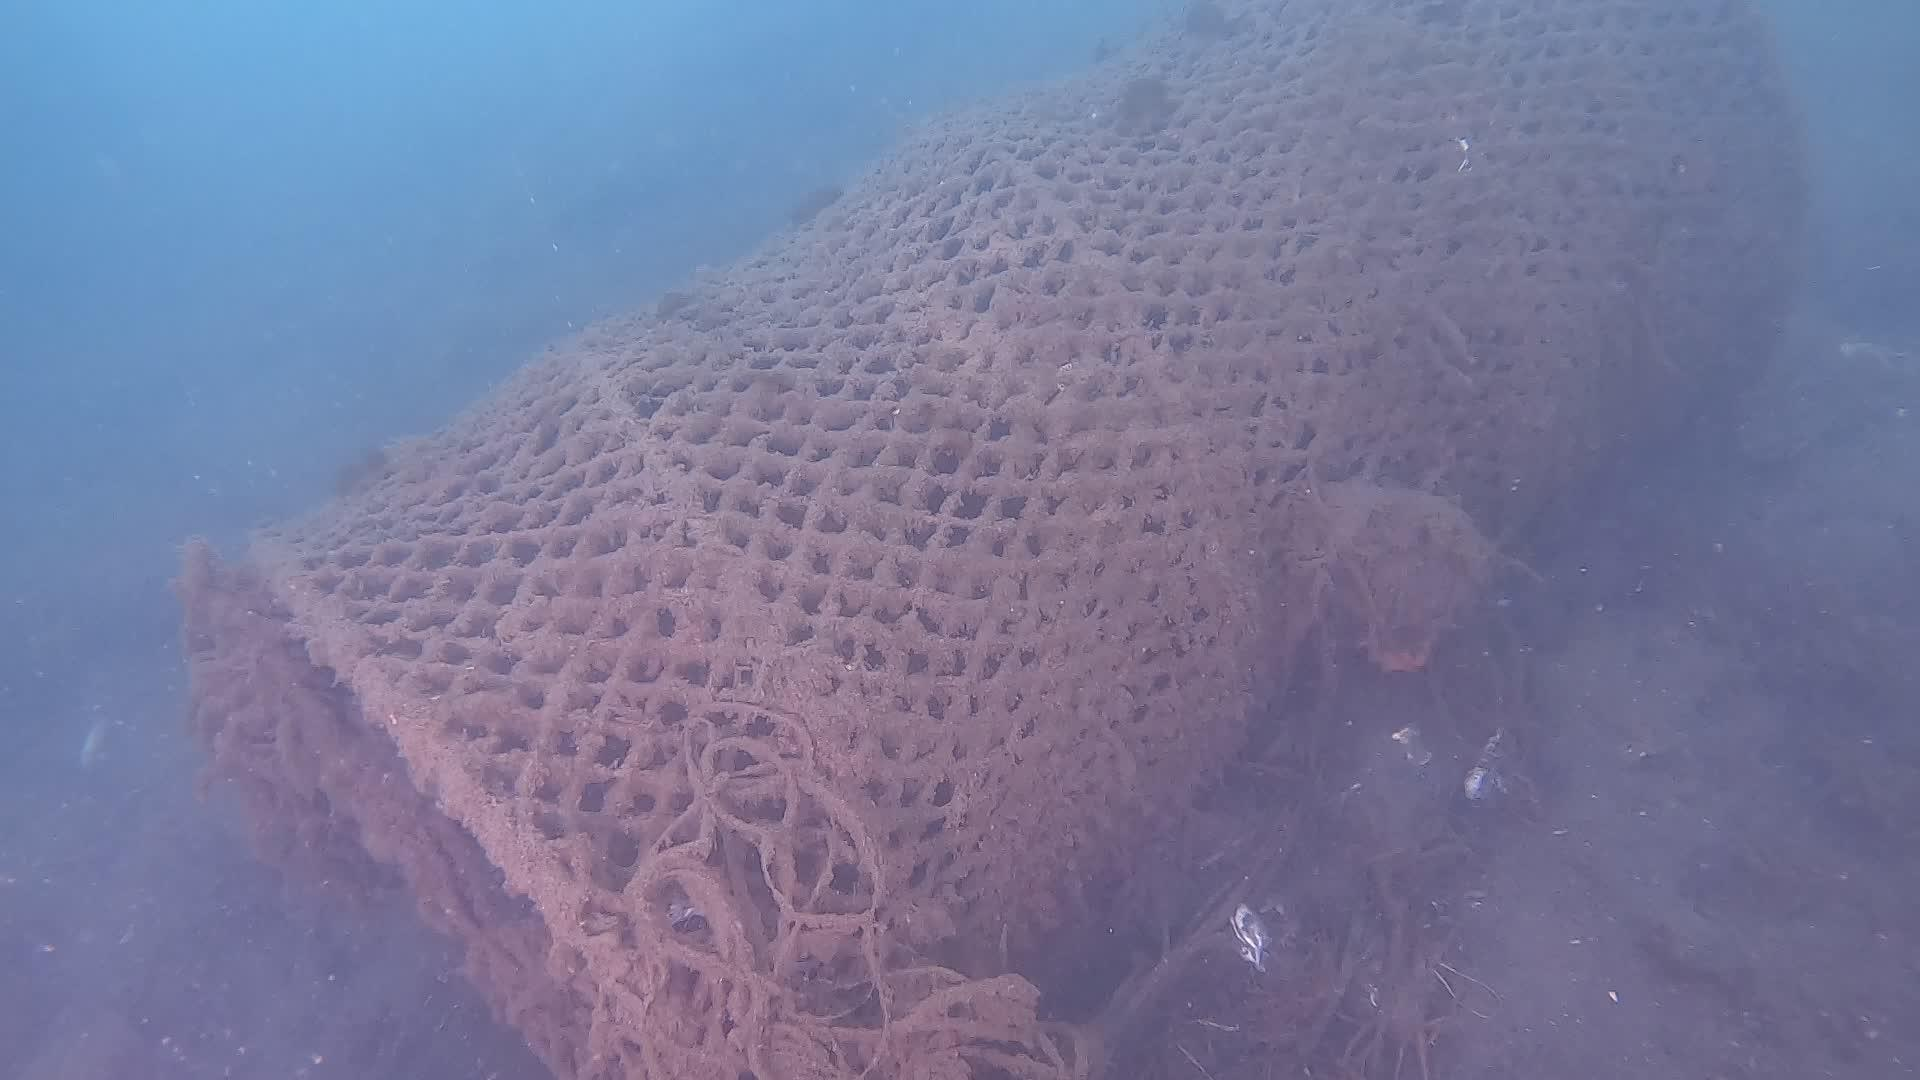spring fish trap: (178, 0, 1817, 1080)
